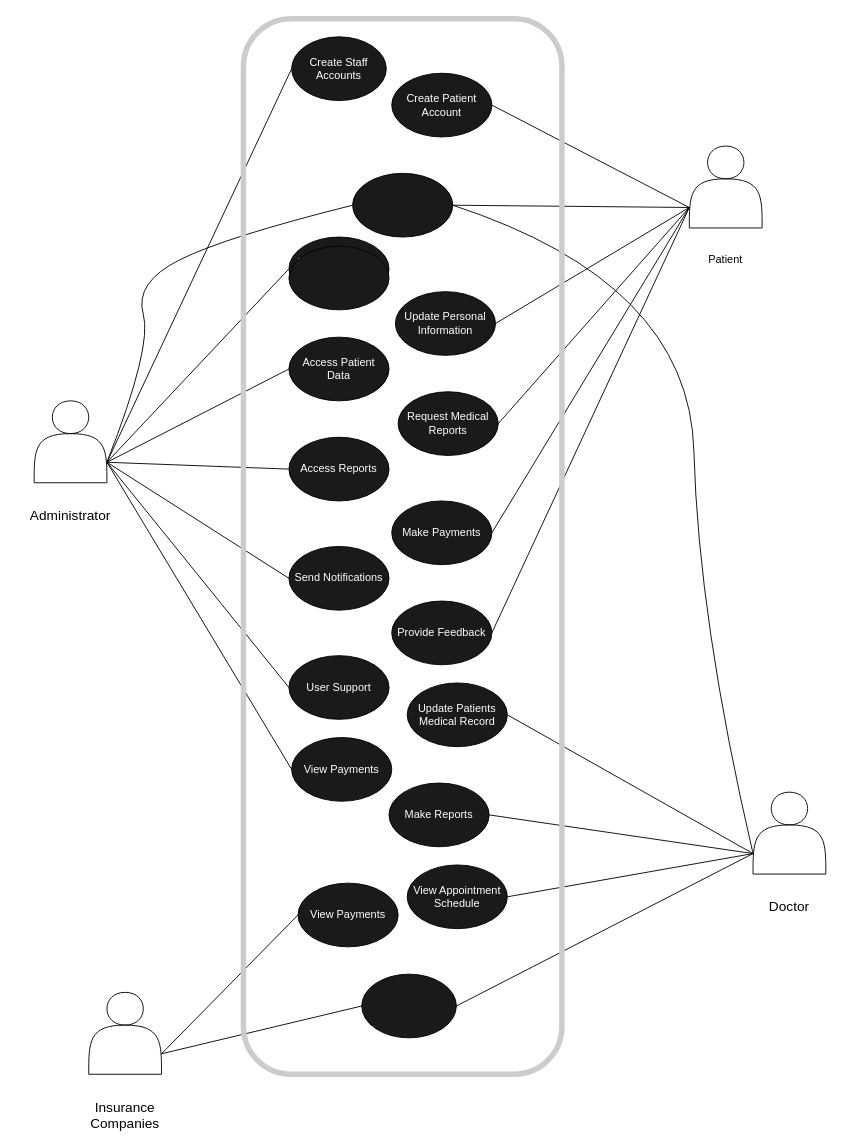
Some shapes in this 859 by 1147 pixel diagram are drawn without their labels. Each missing label, with the box of its shape:
Schedule Appointments: (352, 172, 453, 237)
View Health Records: (288, 245, 389, 310)
View Patient Information and Health Records: (361, 973, 456, 1038)
